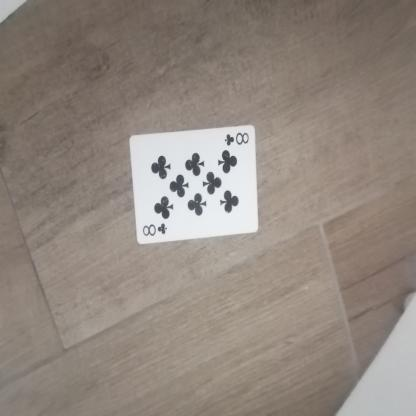8C: (141, 218, 169, 242), (223, 129, 252, 148)
